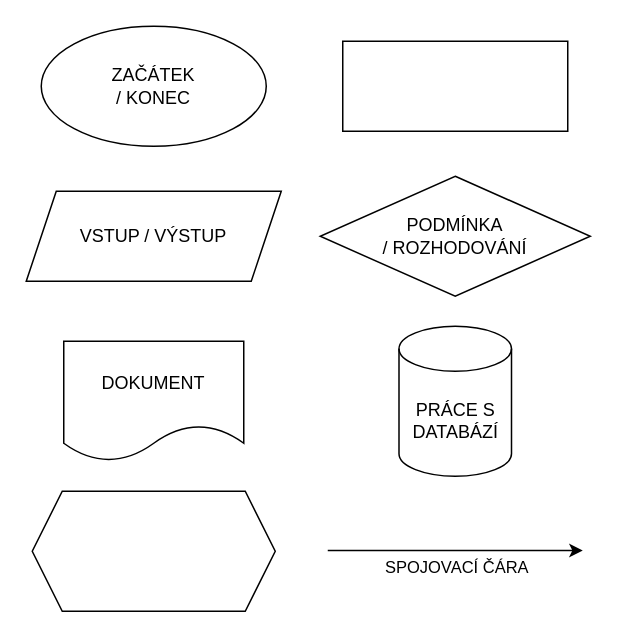
This 621x638 diagram has some shape labels left out. Here are the shapes that lost their labels. From the top down, the box of each, then its label:
(341, 40, 568, 131): PŘÍKAZ / PROCES
(31, 490, 275, 611): CYKLUS S URČENÝM POČTEM OPAKOVÁNÍ
